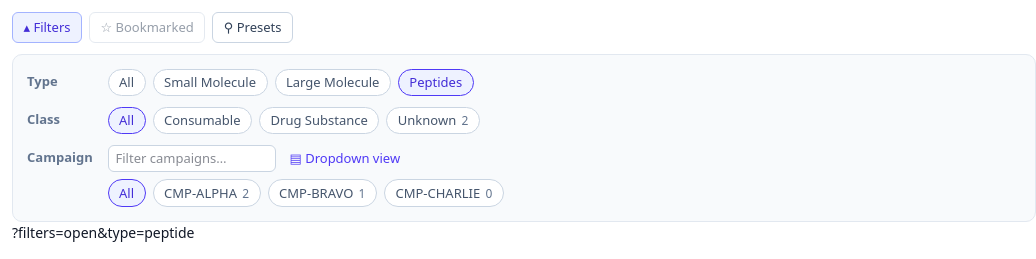
F16-FR-02: "All" clears a row and values within a row are ORed in the URL
The width and height of the screenshot is (1036, 259).
Click the button "Large Molecule". click: (333, 82)
box: [274,69,391,96]
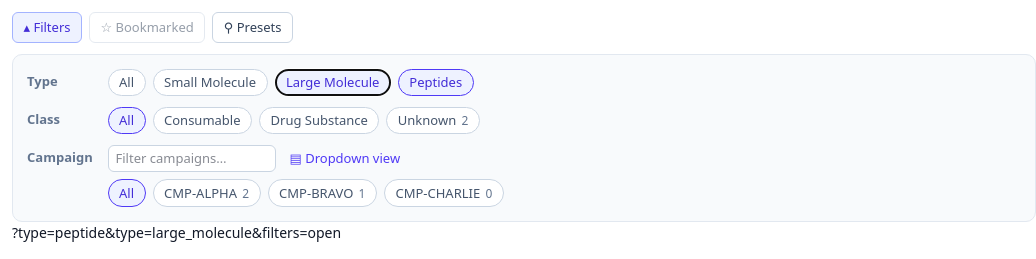
Check: the text with test id "url" shows "type=peptide&type=large_molecule", box [12,223,341,242]
Click the 1st button "All". click: (126, 82)
box: [108,69,146,96]
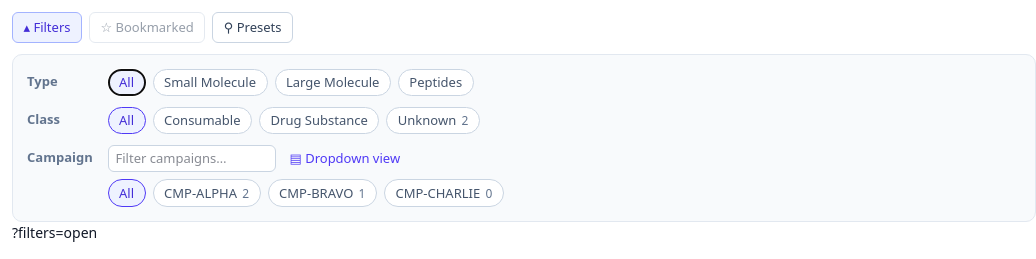
Check: the text with test id "url" no longer shows "type=", box [12,223,97,242]
